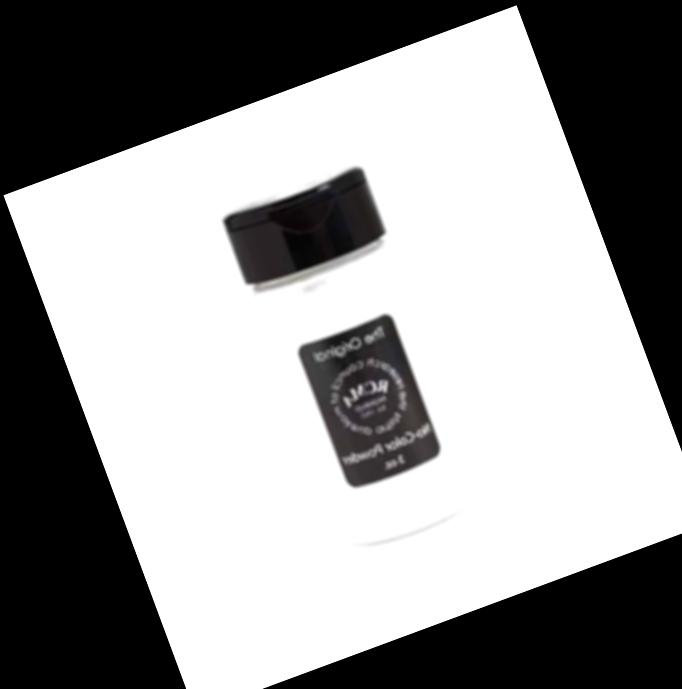cosmetic: (212, 160, 491, 556)
